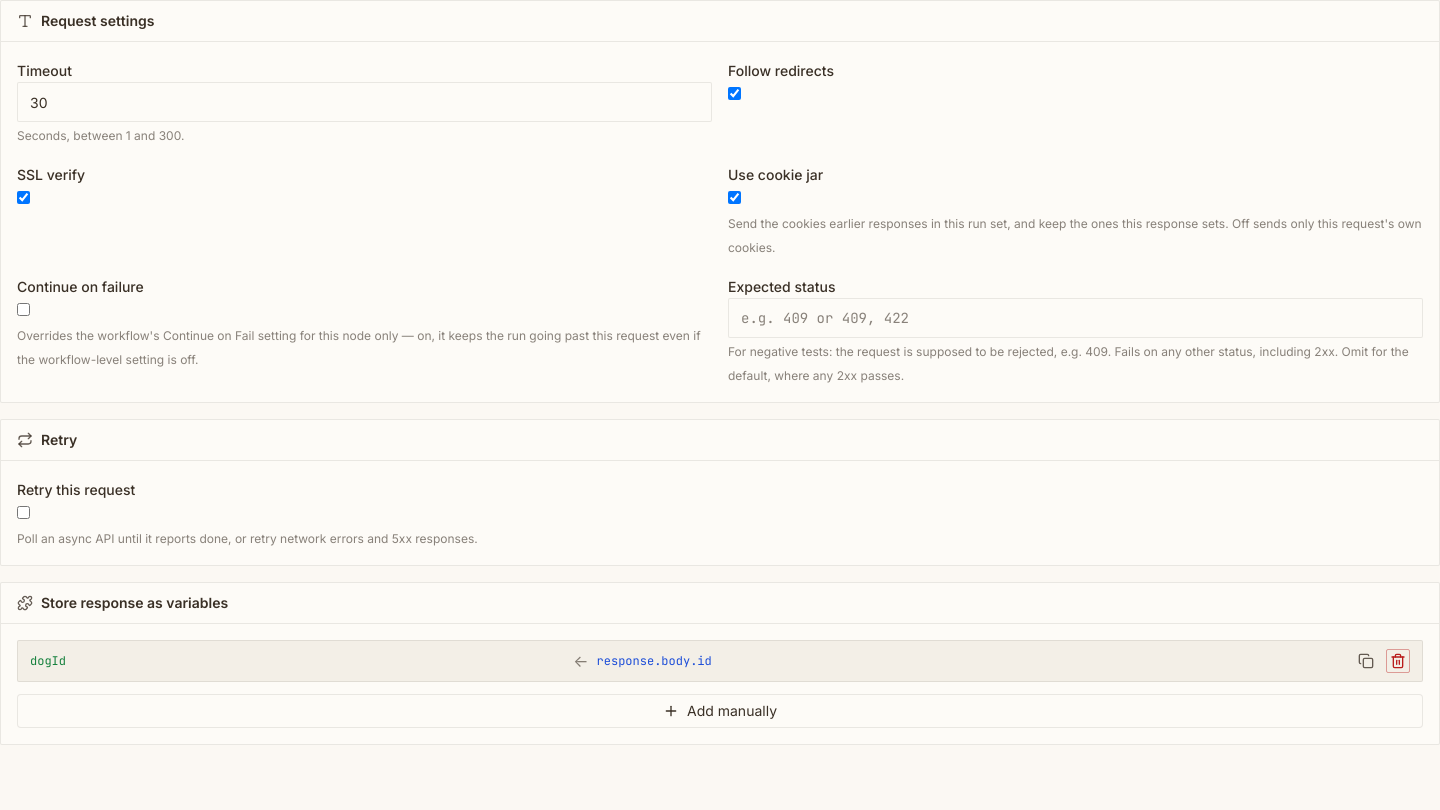
it: HTTPRequestConfigPanel expected status › an out-of-range code shows an error and leaves the config unchanged
Type "42" into the field with placeholder "e.g. 409 or 409, 422" at (1076, 318), box [728,298,1423,338]
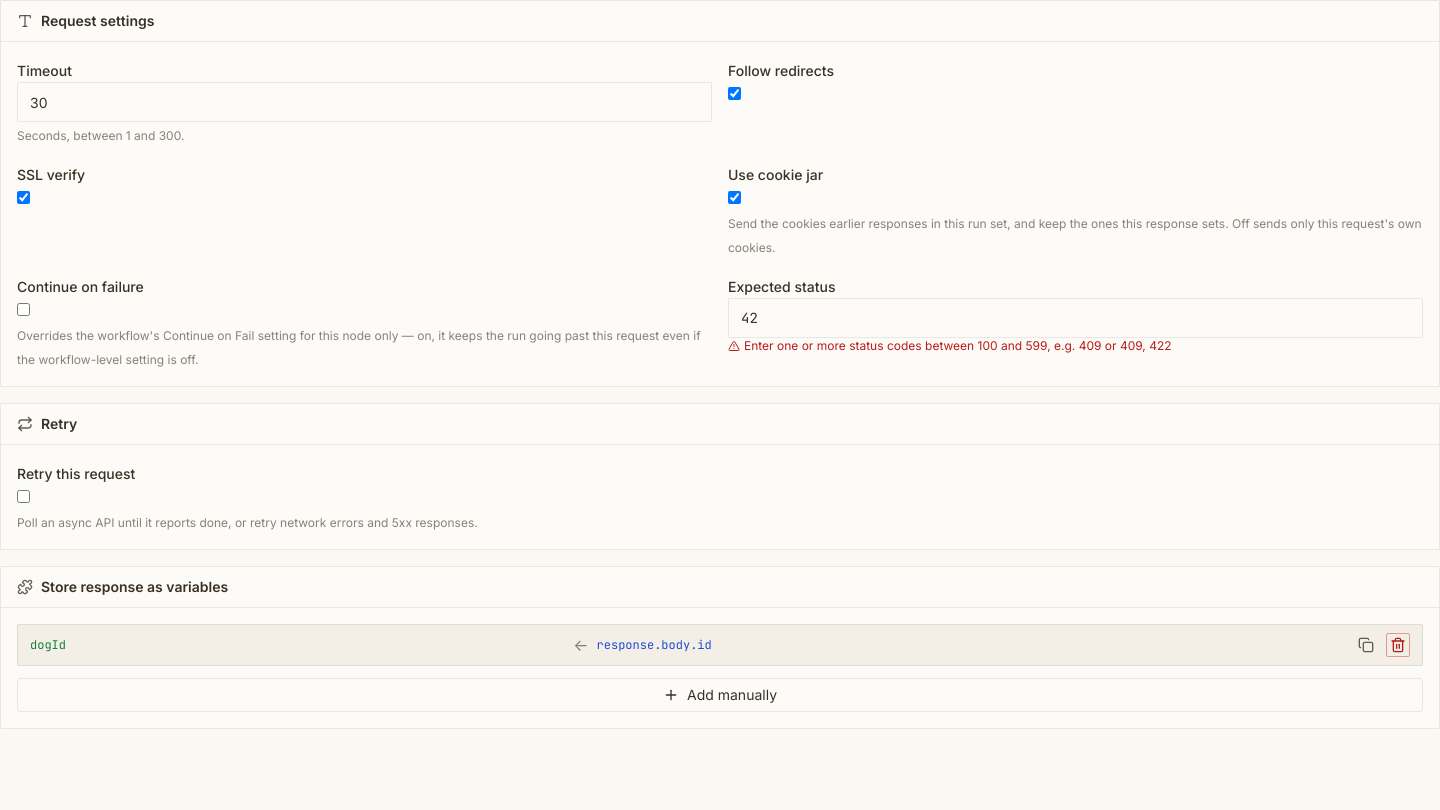
Now the text "between 100 and 599" is shown, box [744,338,1172,353]
